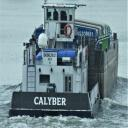tugboat: (9, 2, 104, 122)
